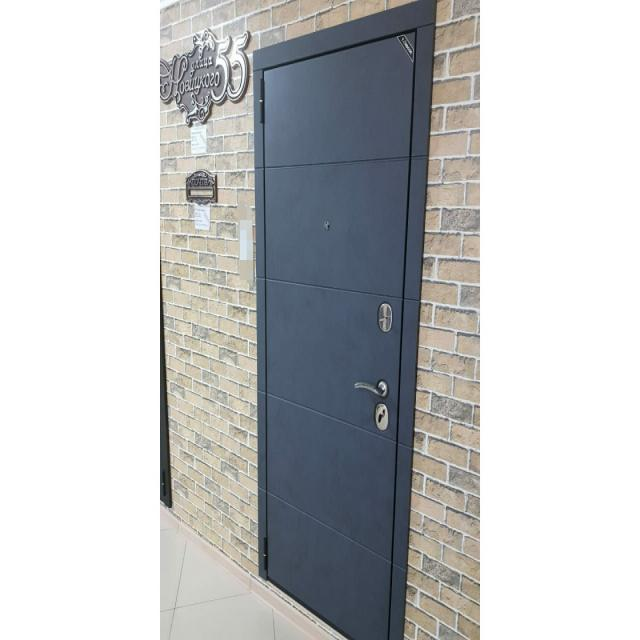close: (256, 44, 419, 622)
